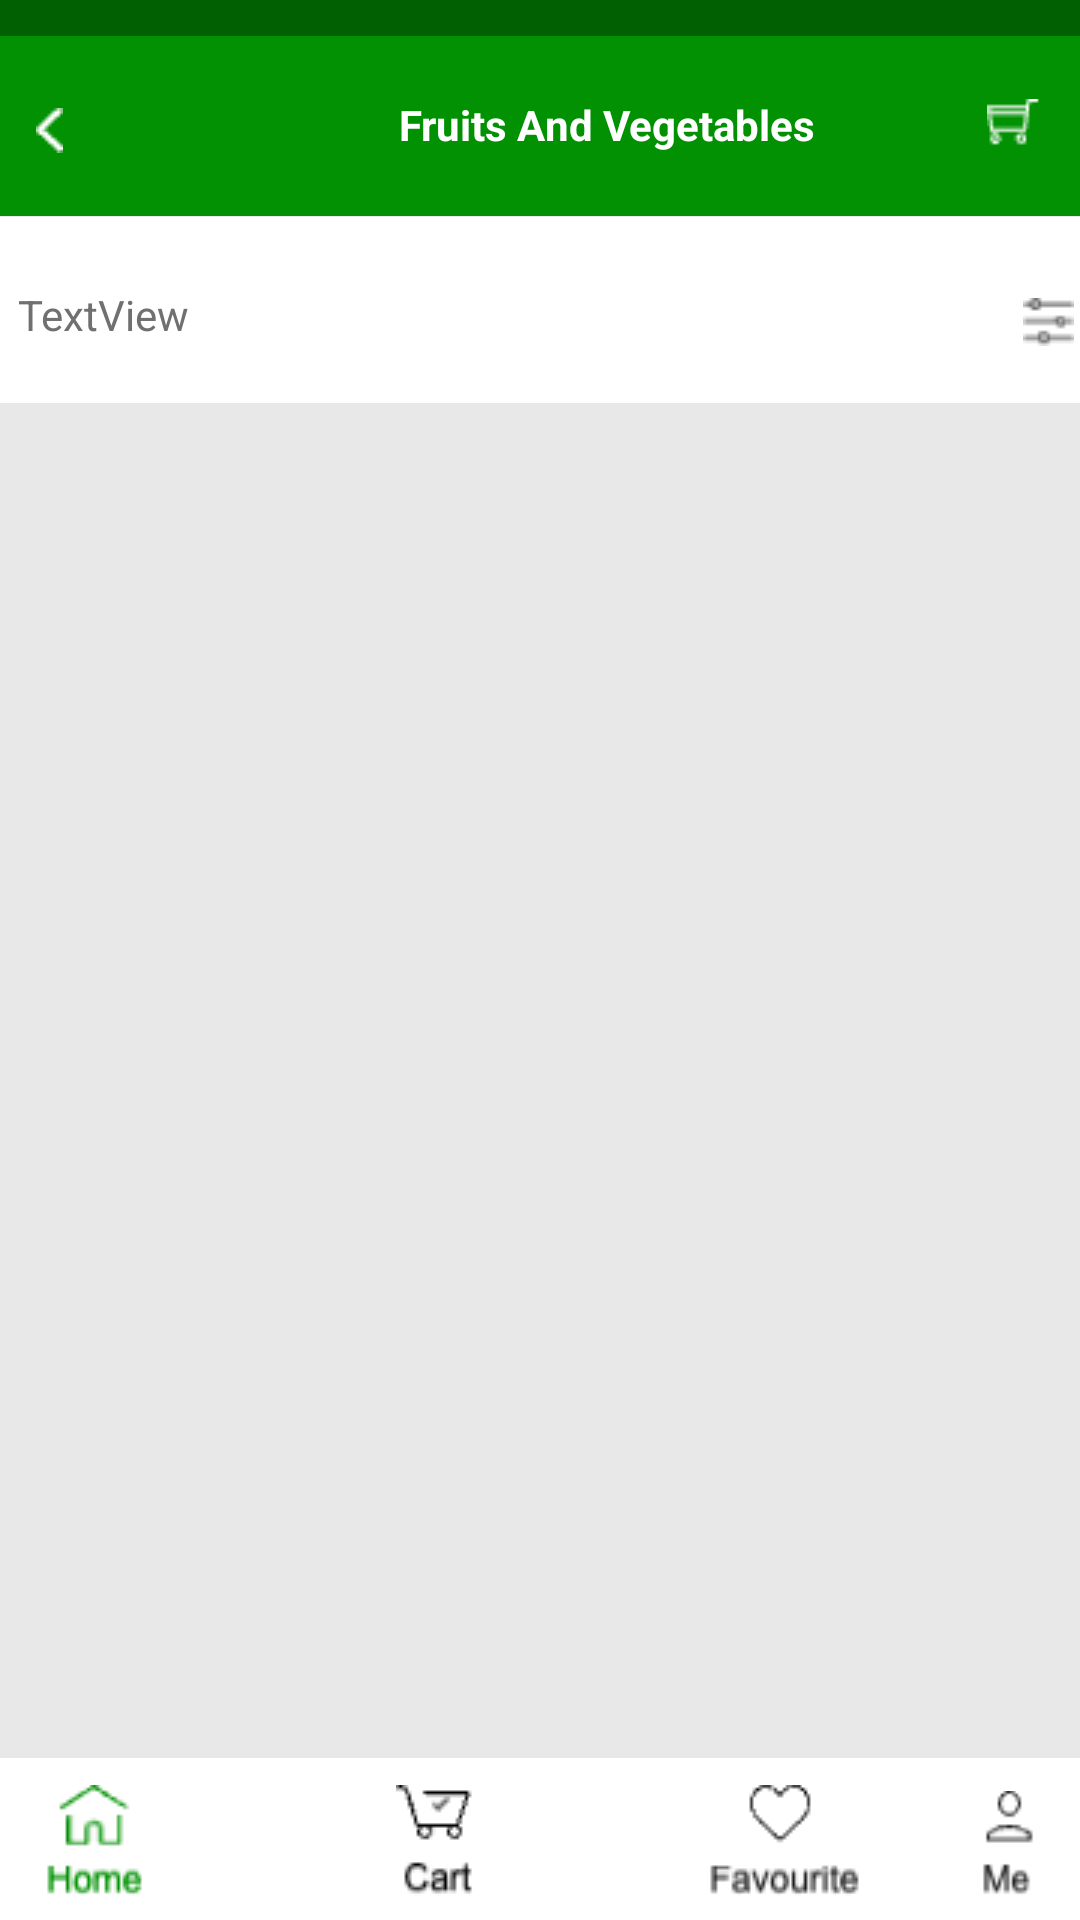

Screen size 1080×1920. Icon name, then its box in pixels as {"x1": x1, "y1": y1, "x2": x2, "y2": y2}:
backarrow: {"x1": 36, "y1": 108, "x2": 63, "y2": 153}
cartui: {"x1": 987, "y1": 99, "x2": 1039, "y2": 145}
filter: {"x1": 1023, "y1": 298, "x2": 1074, "y2": 346}
